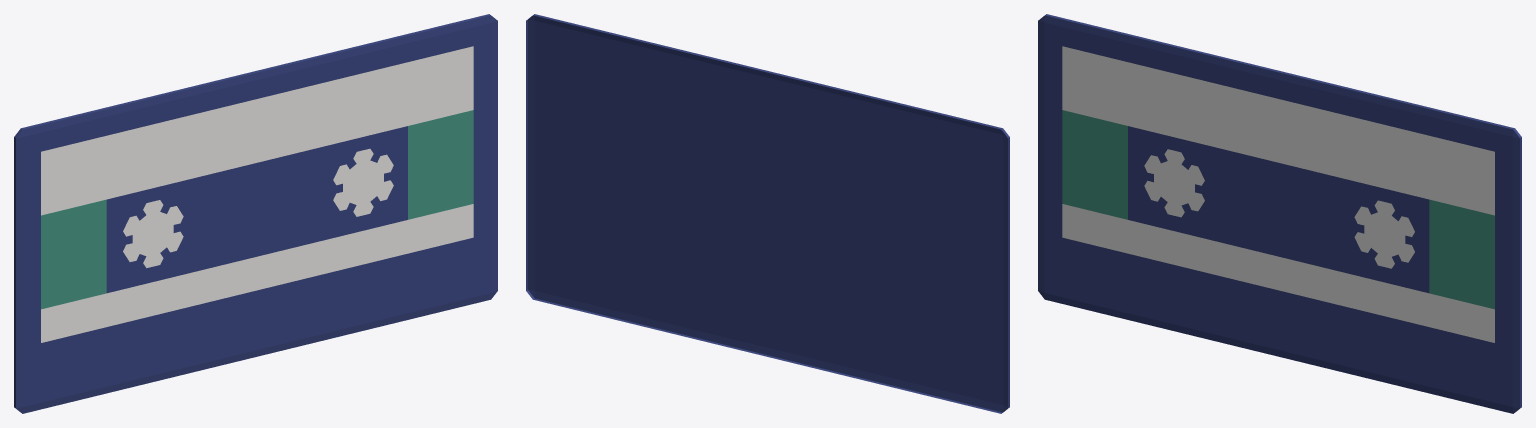
The model's file is Wall_Decoration_Audio_cassette_1.fbx.
The picture shows the model from 3 angles, left to right: view 1: azimuth 30°, elevation 25°; view 2: azimuth 150°, elevation 25°; view 3: azimuth 330°, elevation 25°; orthographic projection.
Visible parts, largest first — view 1: Wall_Decoration_Audio_cassette_1; view 2: Wall_Decoration_Audio_cassette_1; view 3: Wall_Decoration_Audio_cassette_1.
Boxes of the visible parts, x1,y1,x2,y2 form: Wall_Decoration_Audio_cassette_1: (14,14,497,413); Wall_Decoration_Audio_cassette_1: (526,14,1009,413); Wall_Decoration_Audio_cassette_1: (1038,14,1521,413).
Size of the model in its own units: 75.4 by 0.6115 by 42.5.
